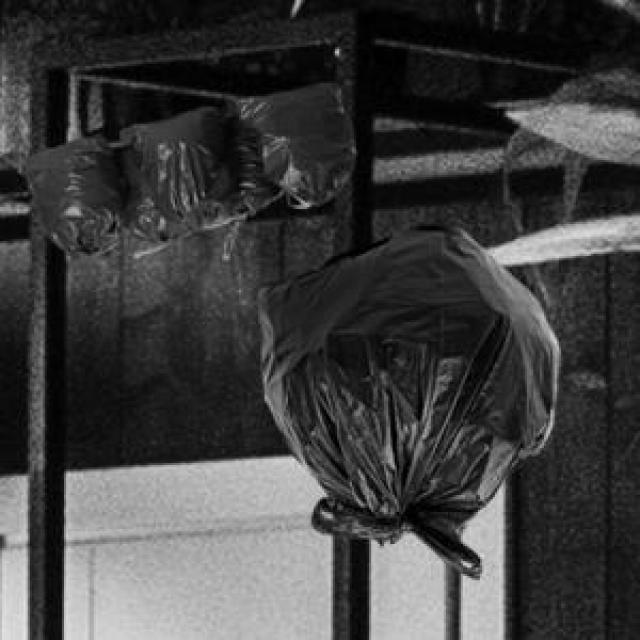miscellaneous trash: (254, 222, 557, 574), (14, 78, 352, 256)
